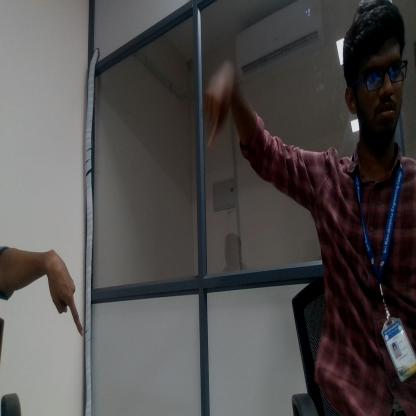Down: (36, 226, 94, 352)
